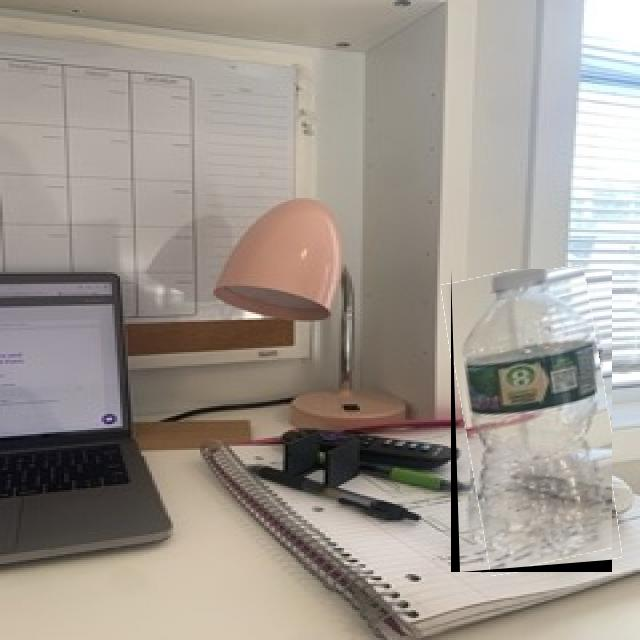water_bottle: (451, 269, 612, 572)
